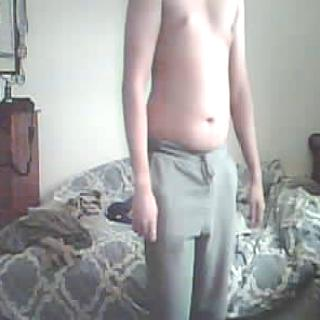Gray Sweatpants: (140, 135, 246, 320)
